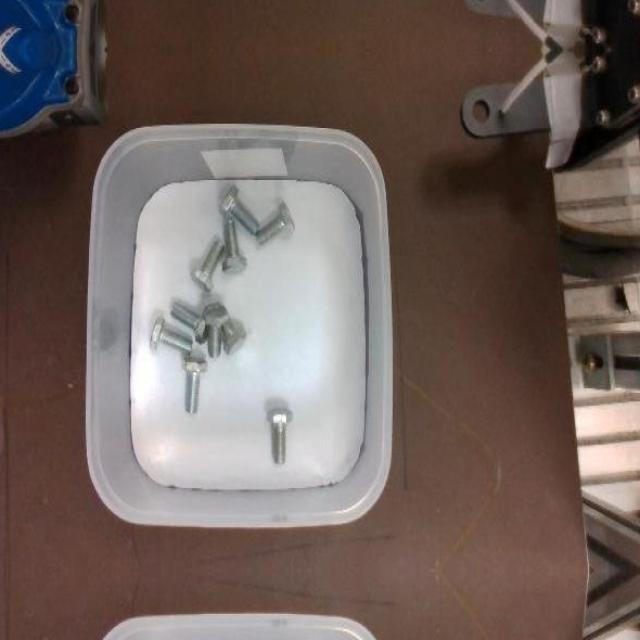screw: (219, 185, 260, 236), (190, 240, 226, 292), (255, 200, 295, 246), (150, 316, 193, 356), (268, 407, 294, 463), (182, 356, 208, 412), (203, 302, 229, 358), (222, 219, 248, 274)
